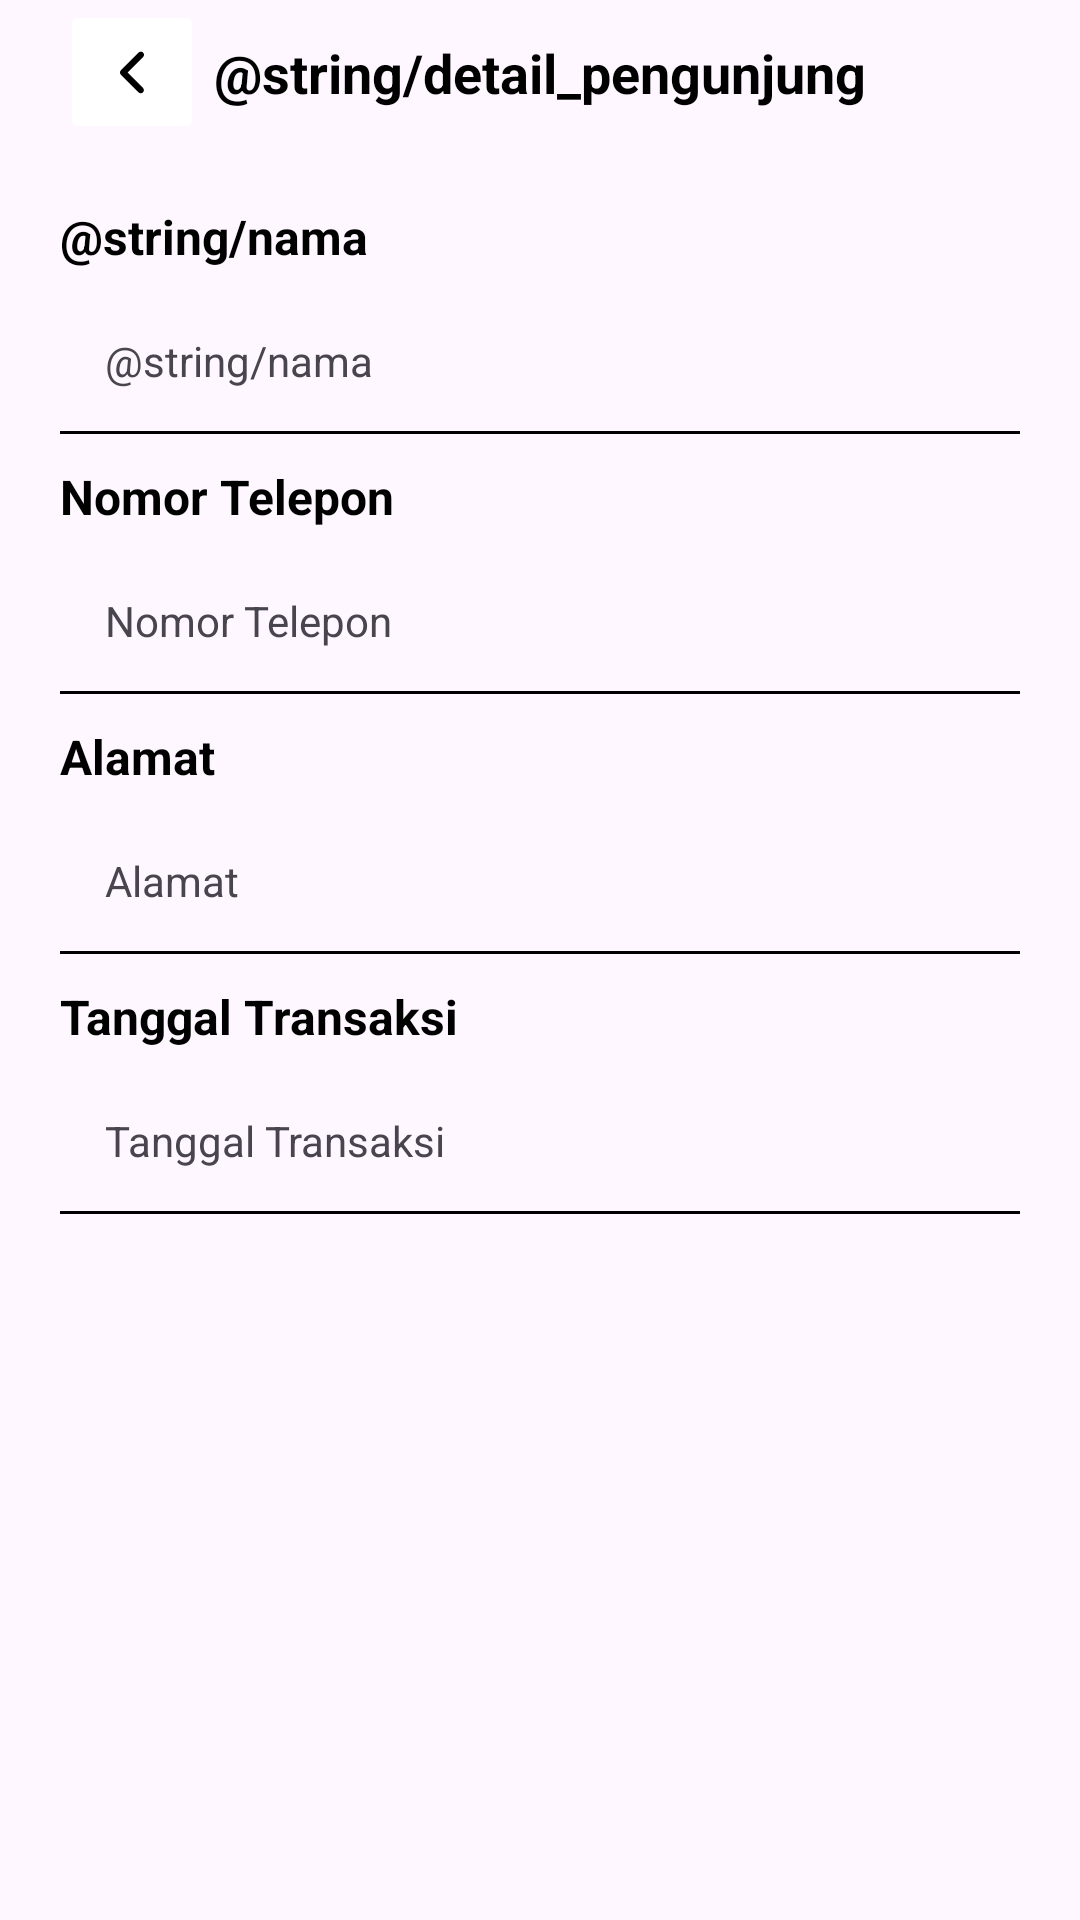

Screen size 1080px x 1920px. Icon name, then its center in pixels as point (x, y):
back: point (132, 72)
